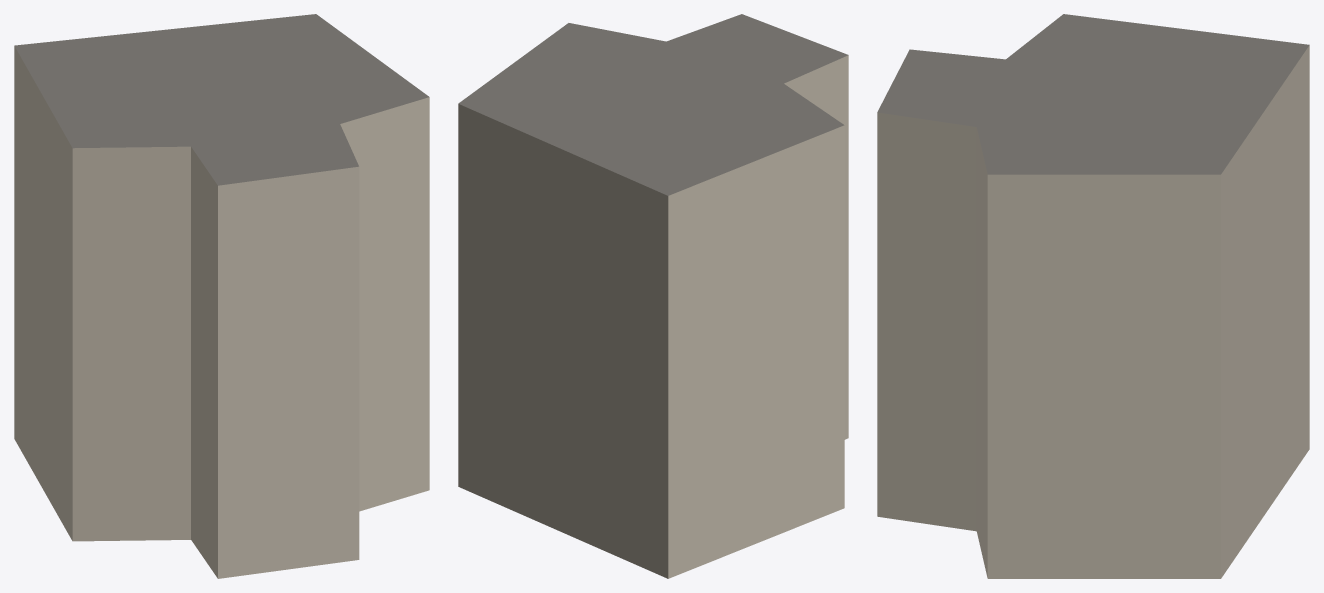
The picture shows the model from 3 angles, left to right: view 1: azimuth 30°, elevation 25°; view 2: azimuth 150°, elevation 25°; view 3: azimuth 270°, elevation 25°; orthographic projection. The views are drawn at different scales.
Parts seen in each view (by area): view 1: HP-w505636160; view 2: HP-w505636160; view 3: HP-w505636160.
Part boxes in pixels (x1=…): HP-w505636160: x1=14, y1=14, x2=429, y2=578; HP-w505636160: x1=458, y1=14, x2=848, y2=578; HP-w505636160: x1=877, y1=14, x2=1309, y2=578.
Size of the model in its own units: 15.34 by 18 by 17.45.
